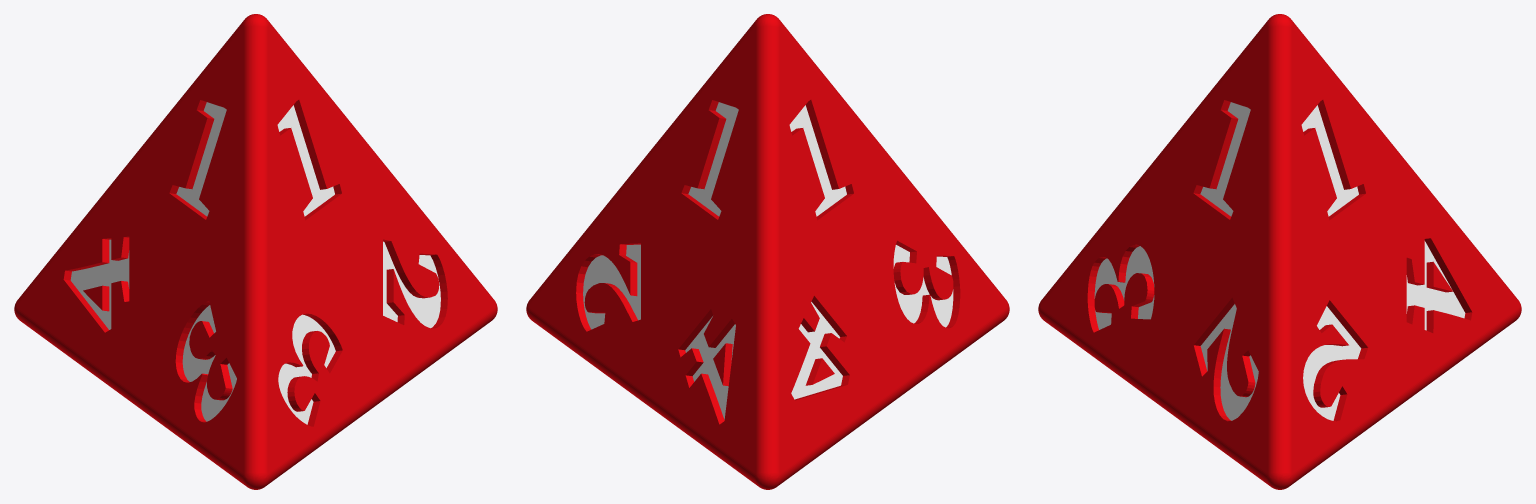
File: DiceMakerD4.glb
The picture shows the model from 3 angles, left to right: view 1: azimuth 30°, elevation 25°; view 2: azimuth 150°, elevation 25°; view 3: azimuth 270°, elevation 25°; orthographic projection.
Parts seen in each view (by area): view 1: d4_3d_numbered_stl, d4_3d_blank_stl; view 2: d4_3d_numbered_stl, d4_3d_blank_stl; view 3: d4_3d_numbered_stl, d4_3d_blank_stl.
Part boxes in pixels (box(x1,y1,x2,y2)): d4_3d_numbered_stl: box(14, 14, 497, 489); d4_3d_blank_stl: box(70, 102, 440, 424); d4_3d_numbered_stl: box(526, 14, 1009, 489); d4_3d_blank_stl: box(583, 102, 953, 419); d4_3d_numbered_stl: box(1038, 14, 1521, 489); d4_3d_blank_stl: box(1094, 102, 1465, 420).
Size of the model in its own units: 17.72 by 16.78 by 20.27.
